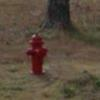a fire hydrant: (26, 34, 50, 76)
